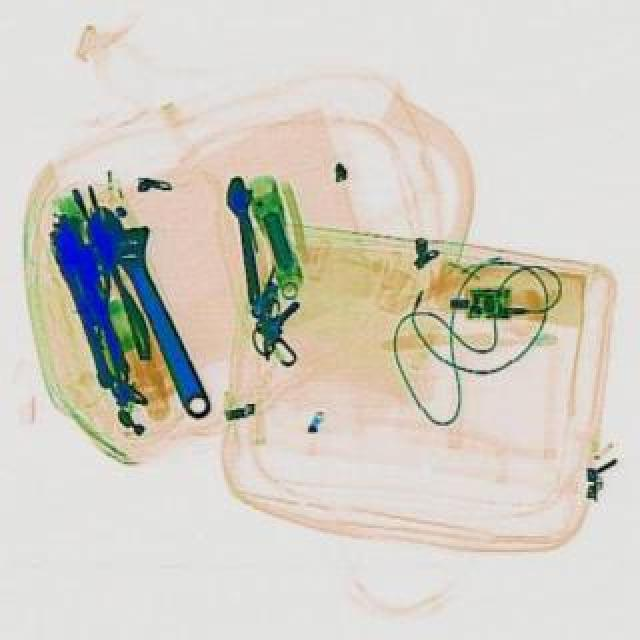scissors: (76, 192, 238, 424), (220, 172, 268, 304)
wrench: (76, 232, 154, 368)
